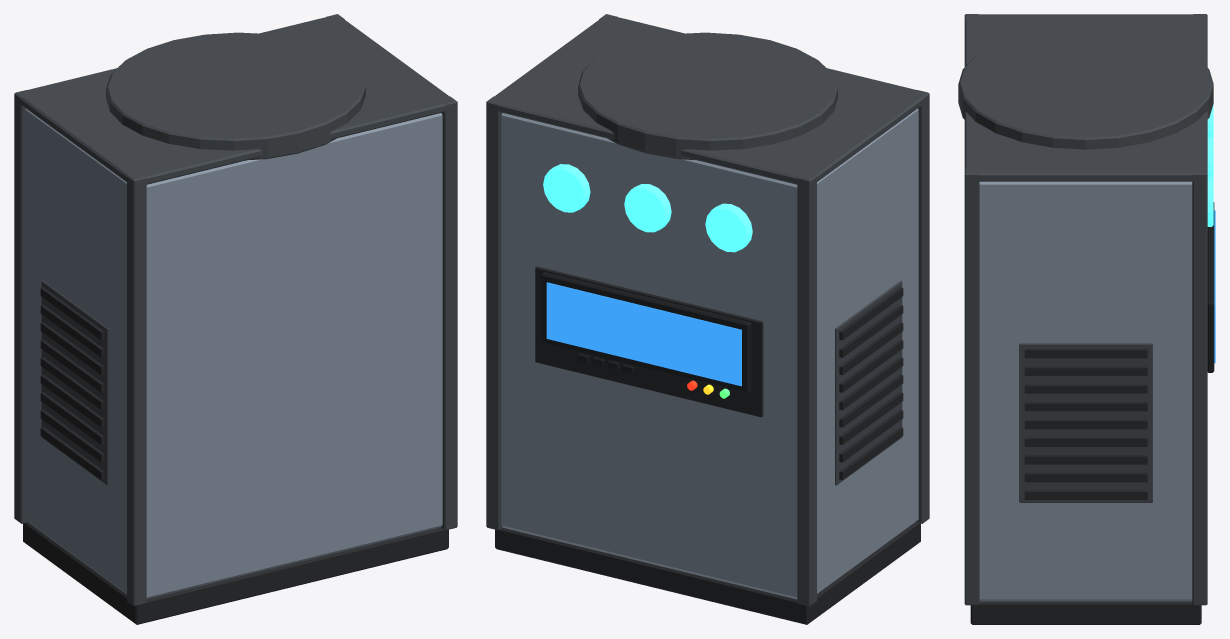
The model's file is survey_array.glb.
3 renders of one model, left to right at view 1: azimuth 30°, elevation 25°; view 2: azimuth 150°, elevation 25°; view 3: azimuth 270°, elevation 25°, orthographic.
Parts seen in each view (by area): view 1: survey_array; view 2: survey_array; view 3: survey_array.
Boxes of the visible parts, <box> form: survey_array: <box>14,14,457,624</box>; survey_array: <box>486,14,929,624</box>; survey_array: <box>958,14,1215,624</box>.
Bounding box in the file's own units: 1.2 × 1.6 × 0.8.
